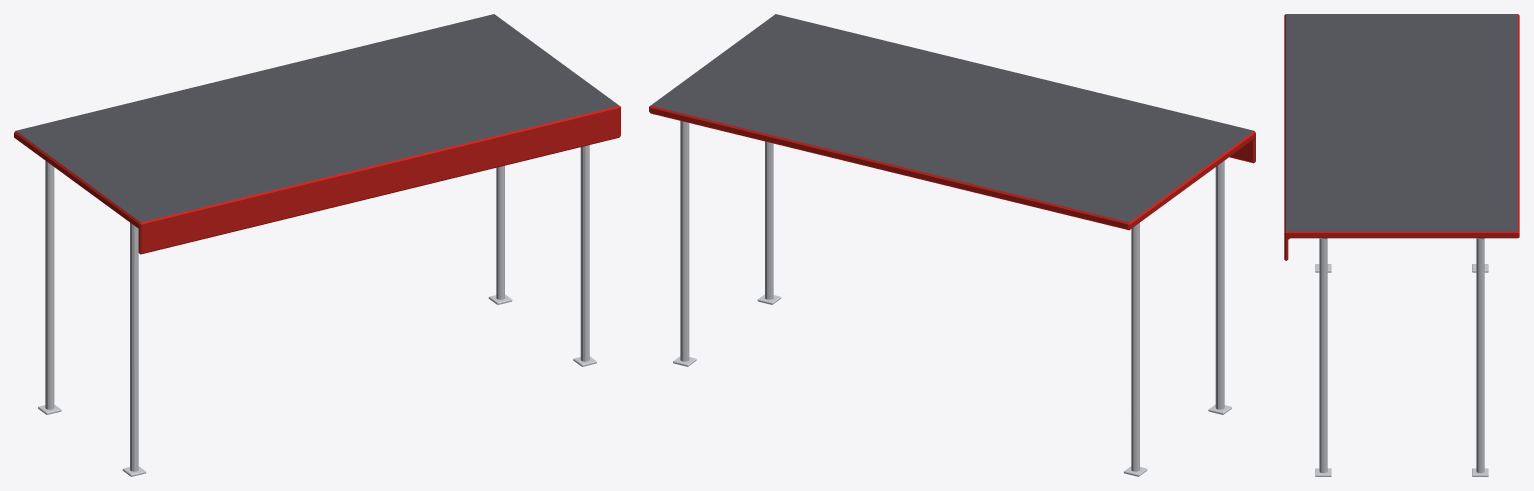
Rendered from techo_plano_mediano.glb.
The picture shows the model from 3 angles, left to right: view 1: azimuth 30°, elevation 25°; view 2: azimuth 150°, elevation 25°; view 3: azimuth 270°, elevation 25°; orthographic projection. The views are drawn at different scales.
Parts seen in each view (by area): view 1: pieza_tramo, pieza_punta_izq, pieza_punta_der; view 2: pieza_tramo, pieza_punta_izq, pieza_punta_der; view 3: pieza_tramo, pieza_punta_der, pieza_punta_izq.
Part boxes in pixels (bbox=[...]): pieza_tramo: bbox=[72, 28, 563, 240]; pieza_punta_izq: bbox=[14, 117, 197, 476]; pieza_punta_der: bbox=[438, 14, 620, 366]; pieza_tramo: bbox=[706, 28, 1197, 216]; pieza_punta_izq: bbox=[1072, 117, 1255, 476]; pieza_punta_der: bbox=[649, 14, 831, 366]; pieza_tramo: bbox=[1284, 39, 1519, 206]; pieza_punta_der: bbox=[1284, 205, 1519, 476]; pieza_punta_izq: bbox=[1284, 14, 1519, 272].
Size of what is drawn, in the model's own units: 2.5 by 1.33 by 1.14.
